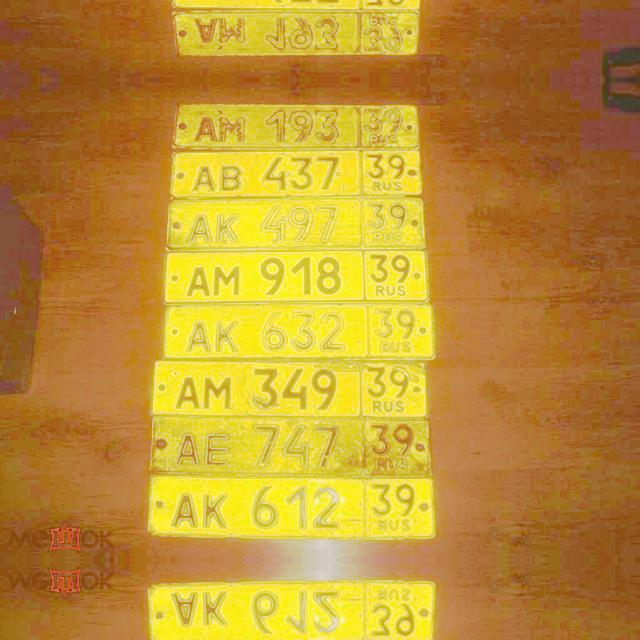taxi: (146, 414, 434, 478), (146, 474, 438, 536), (160, 300, 440, 360), (145, 584, 438, 640), (149, 359, 431, 417), (161, 248, 433, 304), (165, 146, 425, 202), (165, 96, 422, 150), (165, 10, 422, 64), (165, 196, 428, 248), (165, 0, 425, 13)
